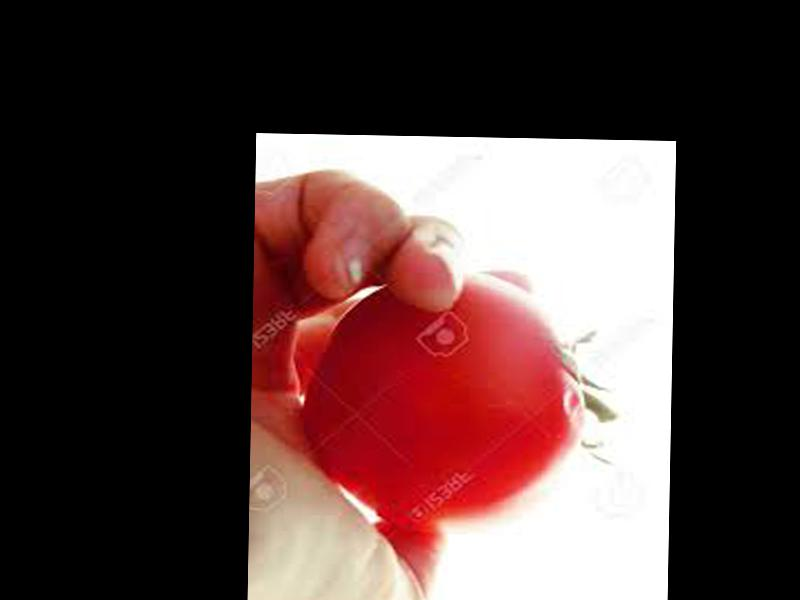Tomato: (305, 268, 590, 532)
